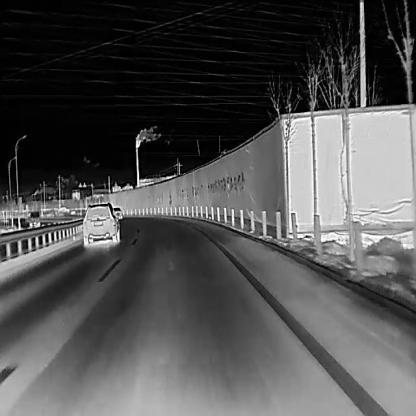car: (82, 202, 118, 246), (113, 206, 122, 220)
truck: (10, 210, 40, 226)
